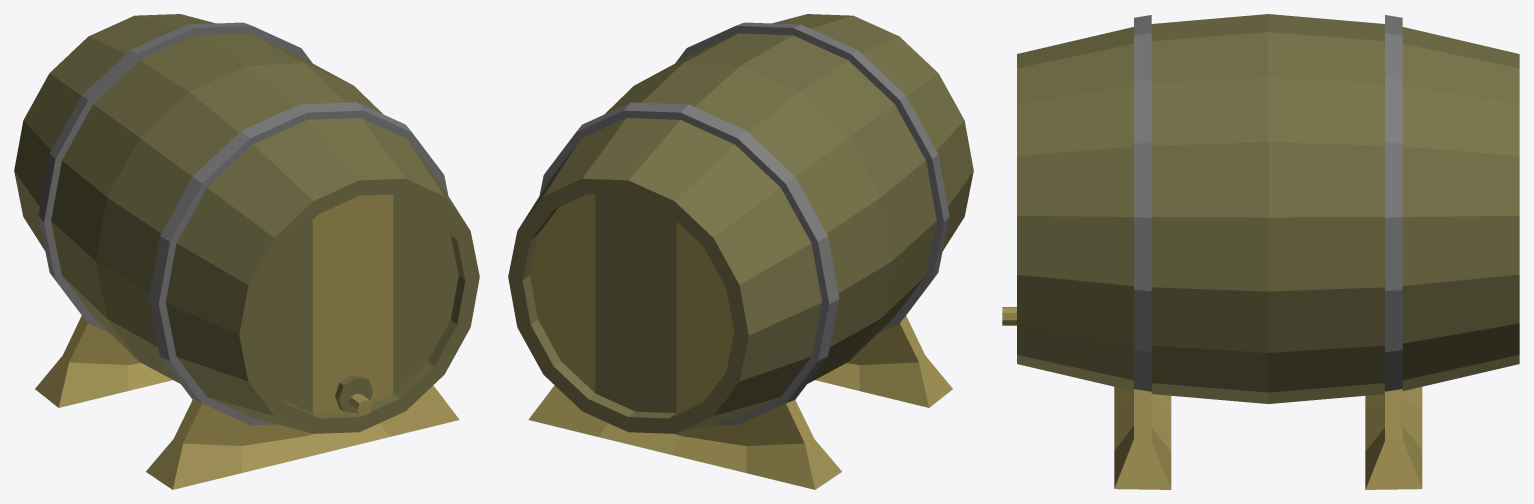
The model's file is Wine_Barrle.fbx.
3 views of the same model, side by side, from view 1: azimuth 30°, elevation 25°; view 2: azimuth 150°, elevation 25°; view 3: azimuth 270°, elevation 25° (orthographic). The views are drawn at different scales.
Parts seen in each view (by area): view 1: Cylinder.002; view 2: Cylinder.002; view 3: Cylinder.002.
Boxes of the visible parts, x1=… form: Cylinder.002: x1=14, y1=14, x2=479, y2=489; Cylinder.002: x1=508, y1=14, x2=973, y2=489; Cylinder.002: x1=1002, y1=14, x2=1519, y2=489.
Size of the model in its own units: 62.93 by 67.33 by 83.37.
